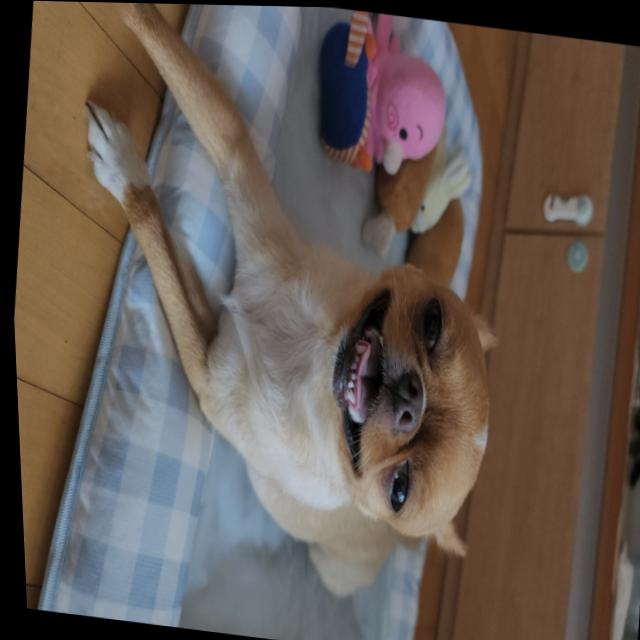dog-chihuahua: (303, 252, 513, 572)
